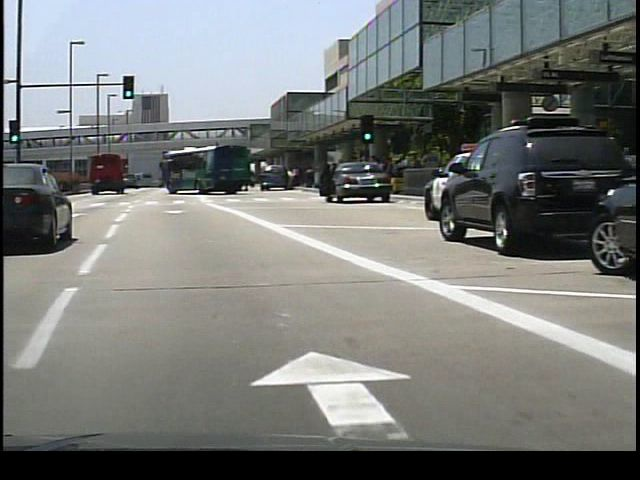person: (281, 166, 292, 190)
